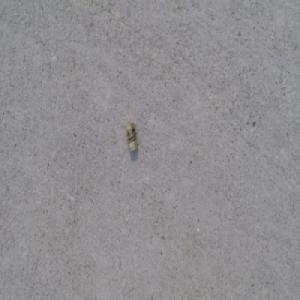BoltNutSet: (126, 122, 138, 151)
